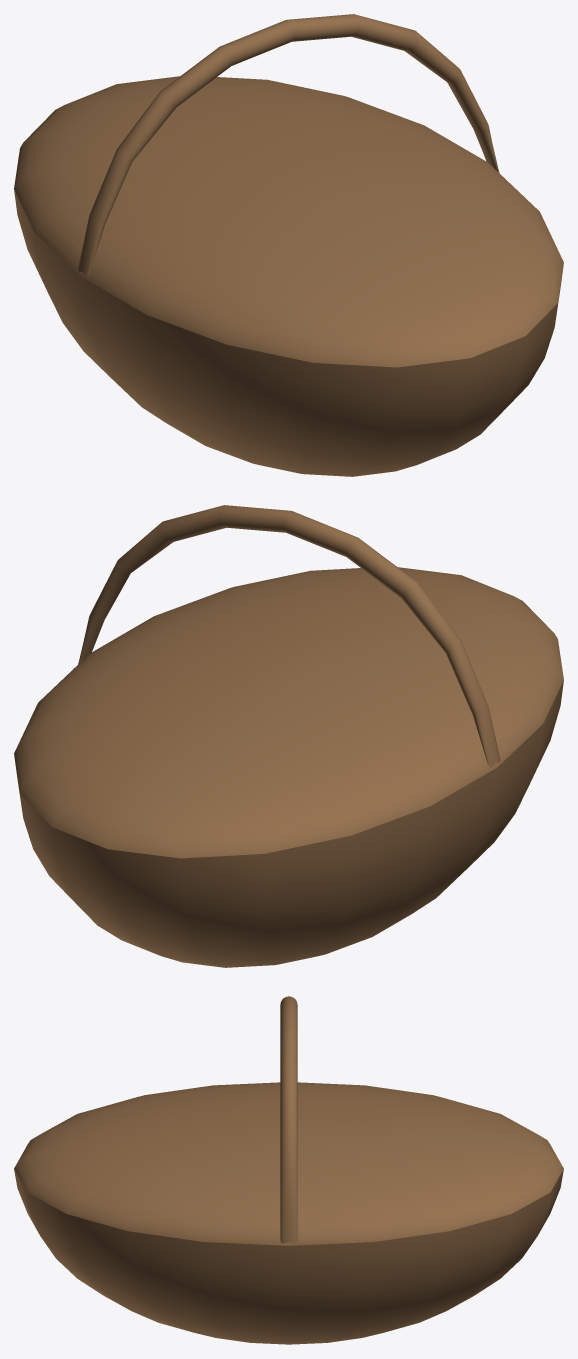
Rendered from Basket.fbx.
3 renders of one model, top to bottom at view 1: azimuth 30°, elevation 25°; view 2: azimuth 150°, elevation 25°; view 3: azimuth 270°, elevation 25°, orthographic. The views are drawn at different scales.
Visible parts, largest first — view 1: polySurface3, polySurface1, polySurface2; view 2: polySurface3, polySurface1, polySurface2; view 3: polySurface3, polySurface1, polySurface2.
Part boxes in pixels (x1,y1,x2,y2): polySurface3: (14, 76, 563, 367); polySurface1: (14, 189, 562, 476); polySurface2: (77, 14, 499, 276); polySurface3: (14, 567, 563, 858); polySurface1: (15, 680, 563, 967); polySurface2: (78, 505, 500, 767); polySurface3: (14, 1082, 563, 1245); polySurface1: (14, 1169, 563, 1344); polySurface2: (280, 996, 297, 1243).
Bounding box in the file's own units: 3.6 × 3.42 × 5.42.
